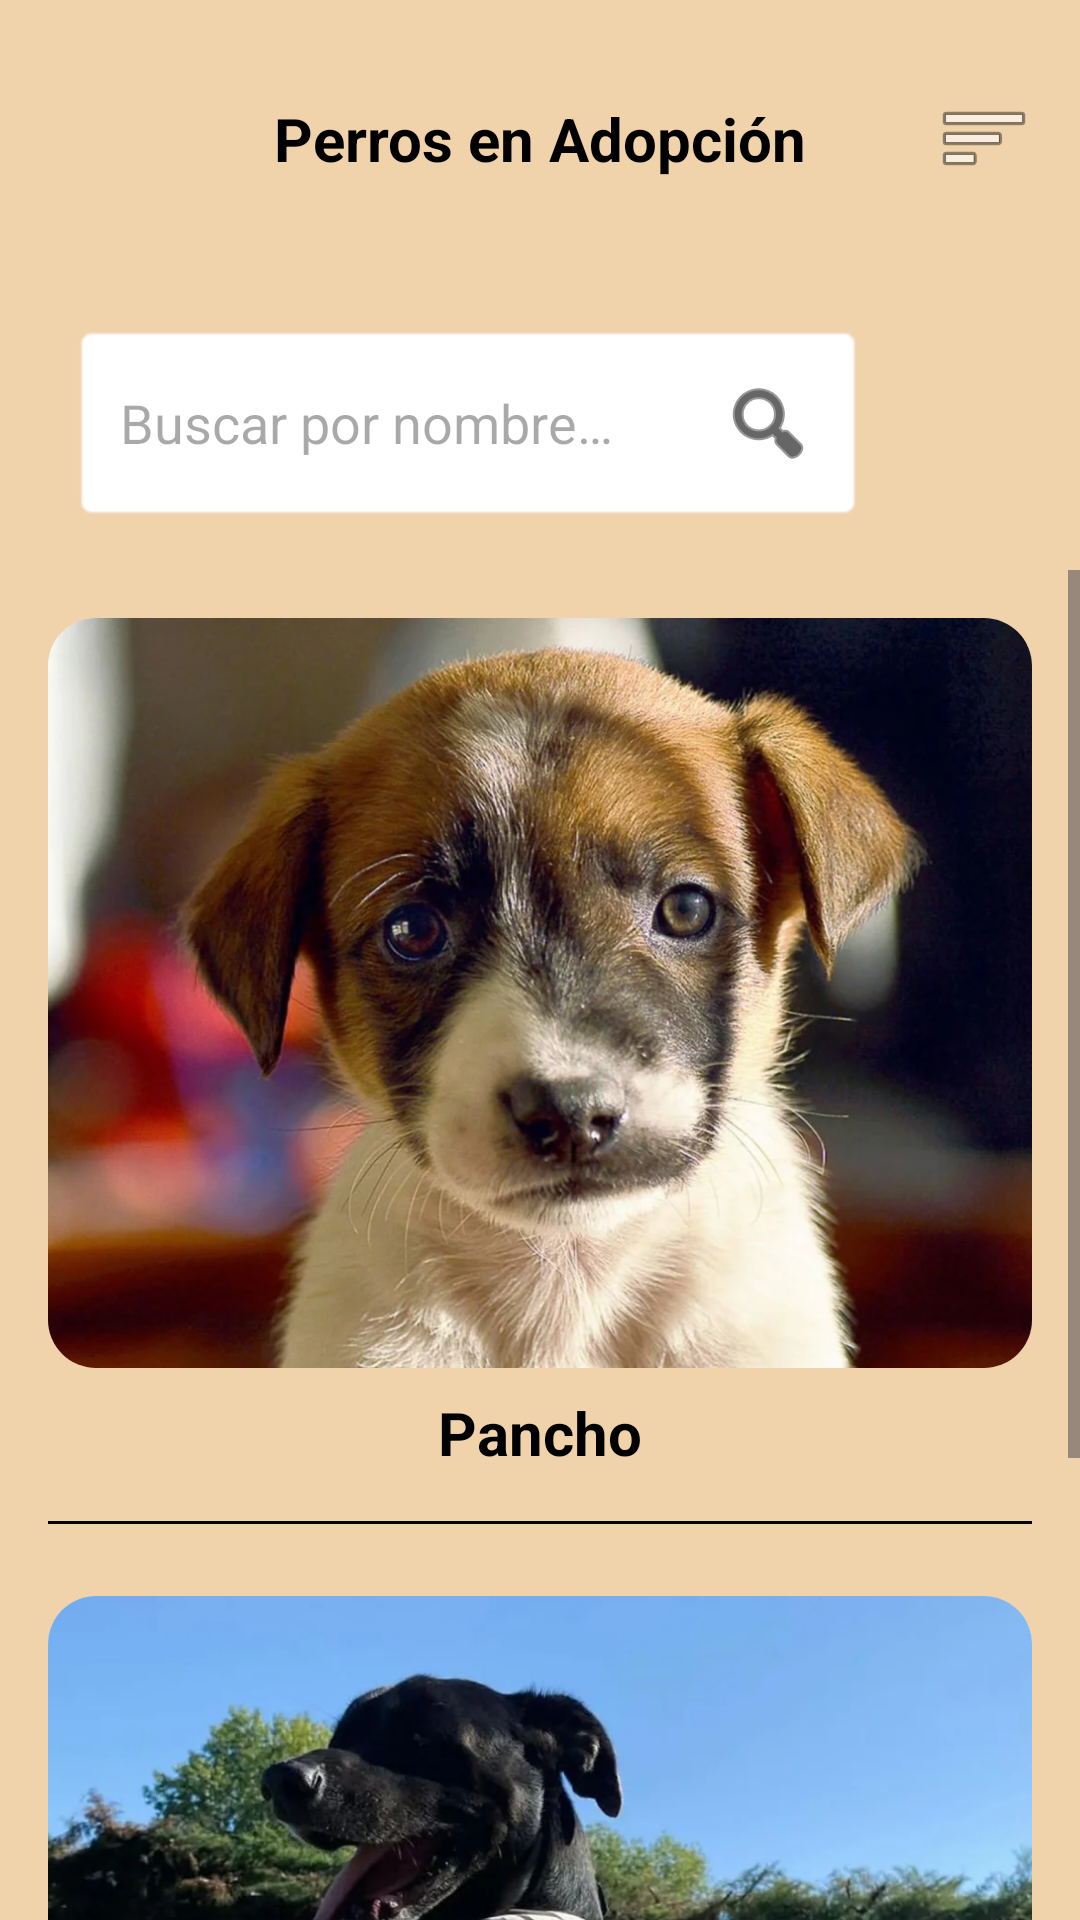

Where icons sit on this 1080px x 1920px app screen, as [left=x1, top=y1, right=x2, bottom=y2]:
Icono de búsqueda: [left=732, top=388, right=804, bottom=459]
Menu: [left=943, top=112, right=1025, bottom=165]
